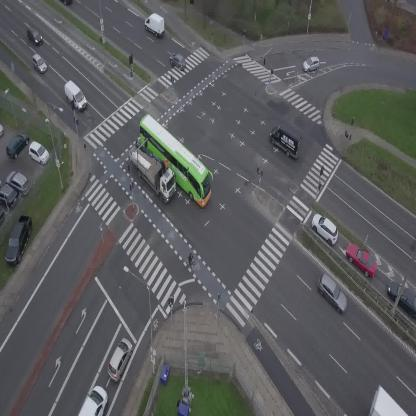bicycle: (184, 252, 199, 272)
bus: (125, 113, 224, 209)
car: (341, 238, 383, 282), (311, 273, 354, 315), (103, 336, 137, 384), (306, 209, 344, 247), (78, 383, 115, 416), (27, 52, 49, 76), (23, 24, 45, 48), (167, 50, 190, 72), (301, 55, 321, 73)
lorry: (120, 138, 185, 204), (264, 119, 309, 161), (369, 384, 409, 416), (60, 79, 90, 112), (141, 9, 170, 39)
